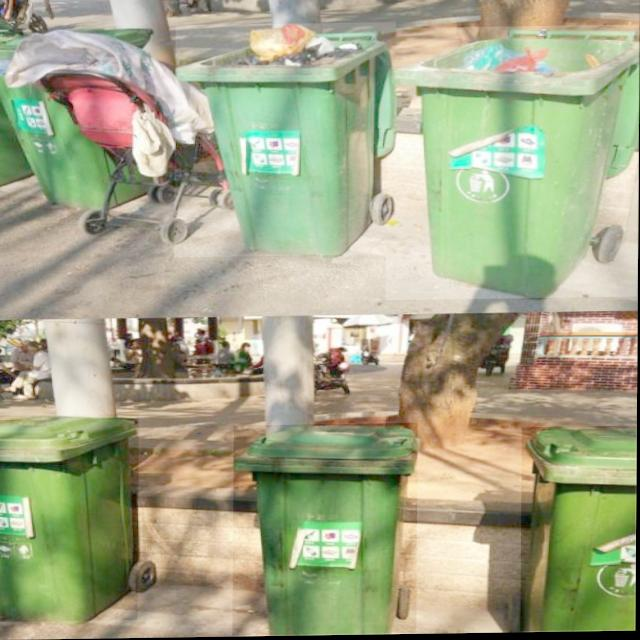garbage_bin: (233, 424, 419, 636), (0, 414, 140, 622), (521, 428, 636, 633)
overflow: (386, 27, 639, 302), (175, 23, 396, 258), (0, 25, 155, 207)
